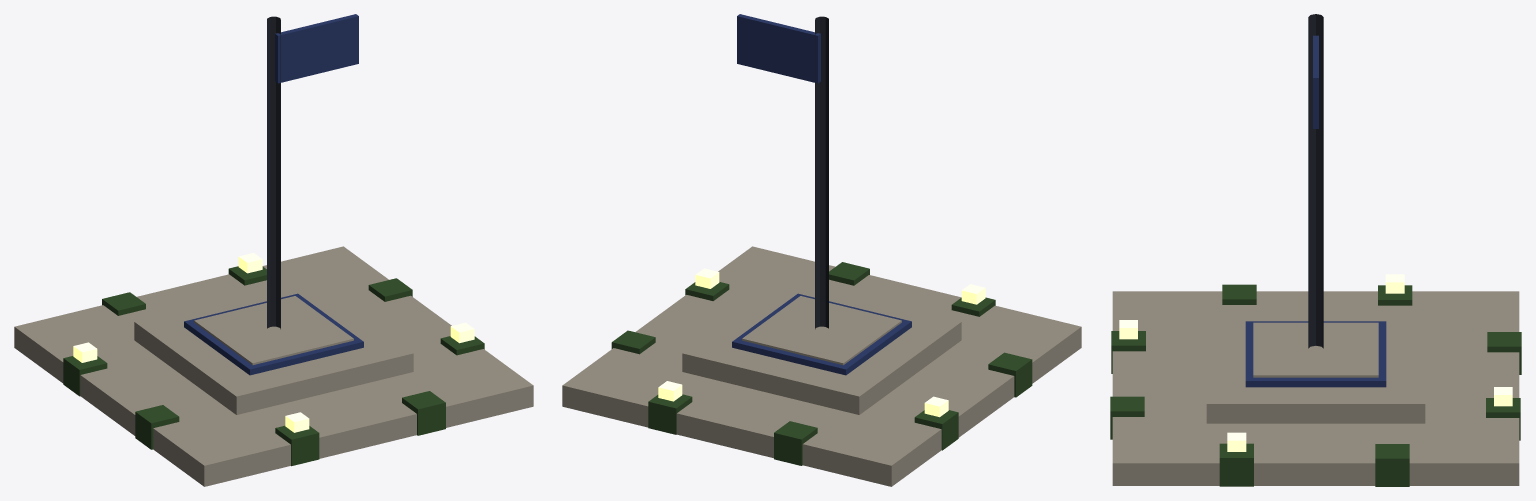
The model's file is flag-high.glb.
The picture shows the model from 3 angles, left to right: view 1: azimuth 30°, elevation 25°; view 2: azimuth 150°, elevation 25°; view 3: azimuth 270°, elevation 25°; orthographic projection. The views are drawn at different scales.
Size of the model in its own units: 26.29 by 27 by 26.29.
